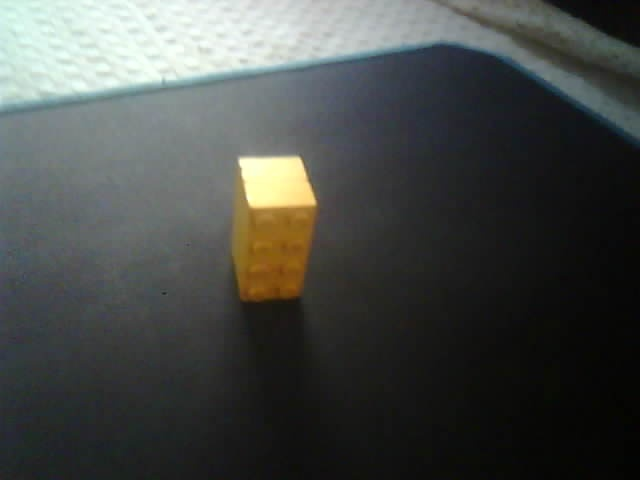lego: (229, 154, 316, 306)
